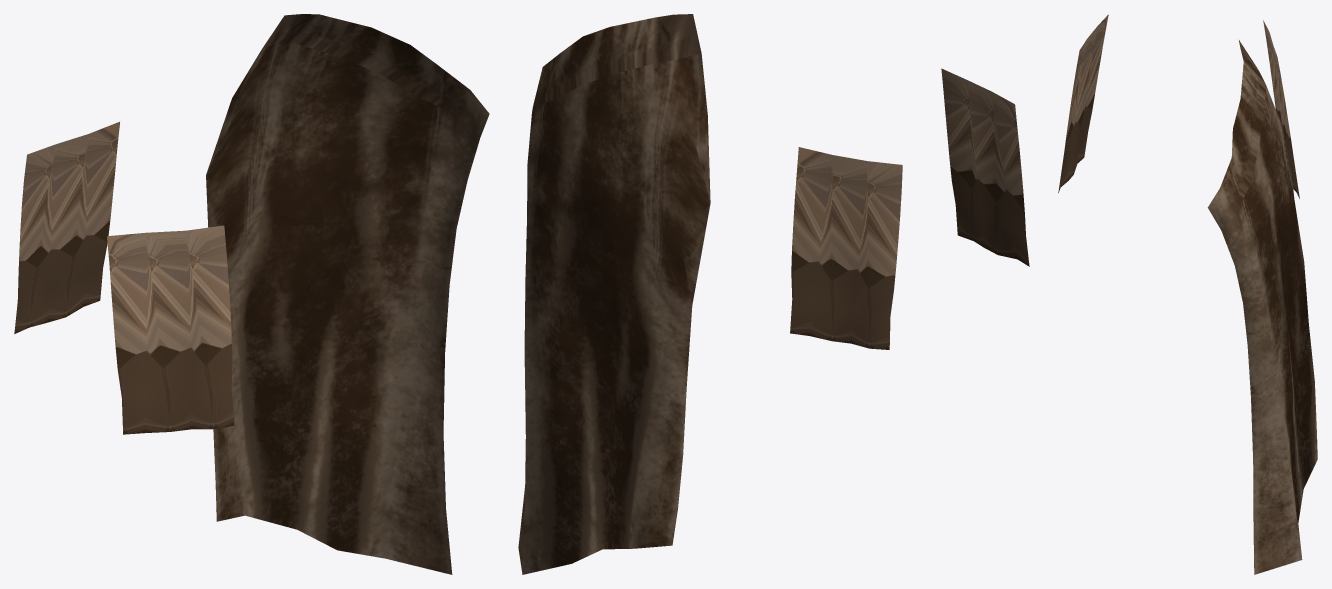
Rendered from clo_dunland_caerdh_pauldron_elite_cape_b.fbx.
The picture shows the model from 3 angles, left to right: view 1: azimuth 30°, elevation 25°; view 2: azimuth 150°, elevation 25°; view 3: azimuth 270°, elevation 25°; orthographic projection. The views are drawn at different scales.
Visible parts, largest first — view 1: clo_dunland_caerdh_pauldron_elite_cape_b; view 2: clo_dunland_caerdh_pauldron_elite_cape_b; view 3: clo_dunland_caerdh_pauldron_elite_cape_b.
Boxes of the visible parts, left/top/right/bottom form: clo_dunland_caerdh_pauldron_elite_cape_b: left=14, top=14, right=489, bottom=574; clo_dunland_caerdh_pauldron_elite_cape_b: left=518, top=14, right=1029, bottom=574; clo_dunland_caerdh_pauldron_elite_cape_b: left=1058, top=14, right=1317, bottom=574.
Size of the model in its own units: 0.55 by 0.3598 by 0.7171.
Materials: 1 (1 with a texture image).
